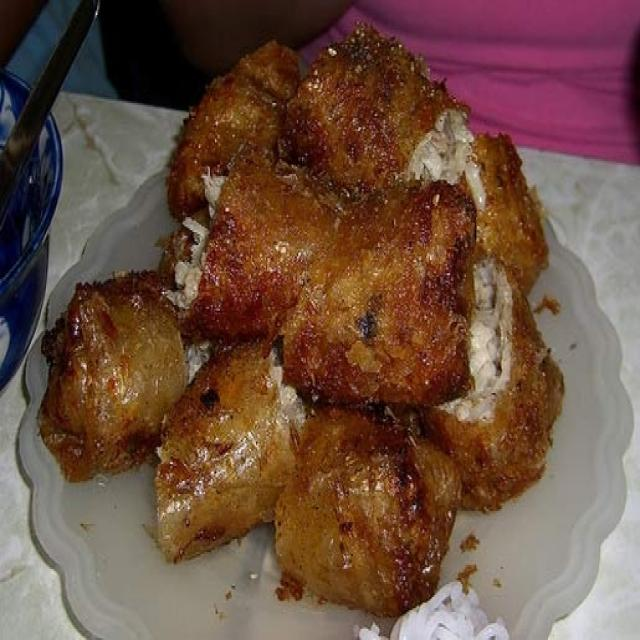炸货点心: (46, 23, 601, 623)
